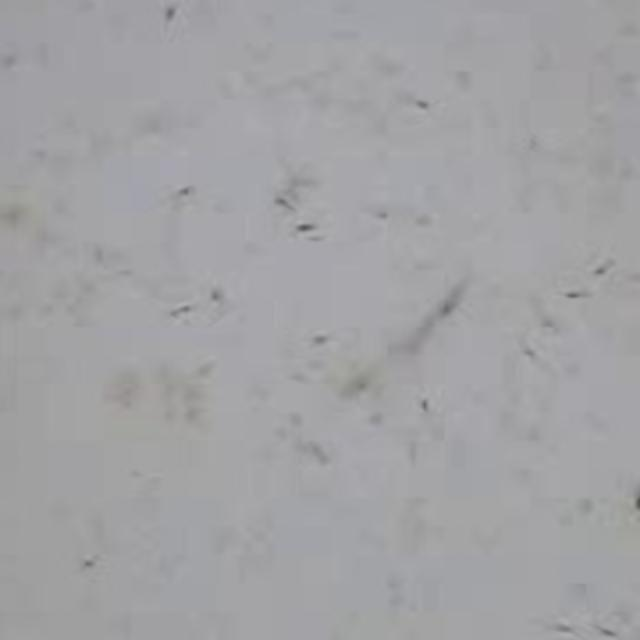shrimp-seed: (375, 80, 441, 114), (512, 336, 560, 380), (156, 288, 210, 327), (145, 0, 191, 44), (68, 544, 118, 580), (407, 390, 446, 436), (584, 250, 626, 288), (158, 181, 218, 206), (548, 282, 596, 310), (520, 613, 573, 637), (590, 604, 622, 640), (267, 190, 305, 218), (276, 220, 326, 238)
